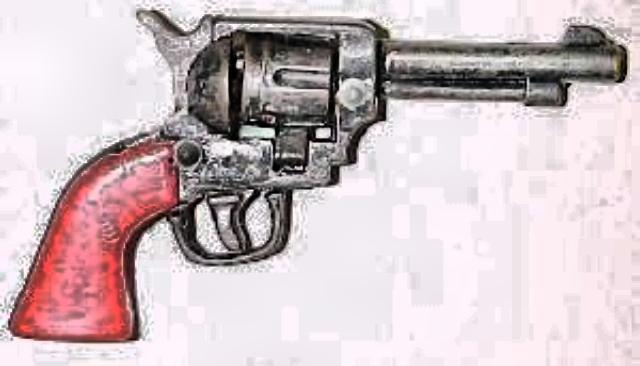pistol: (5, 6, 625, 344)
